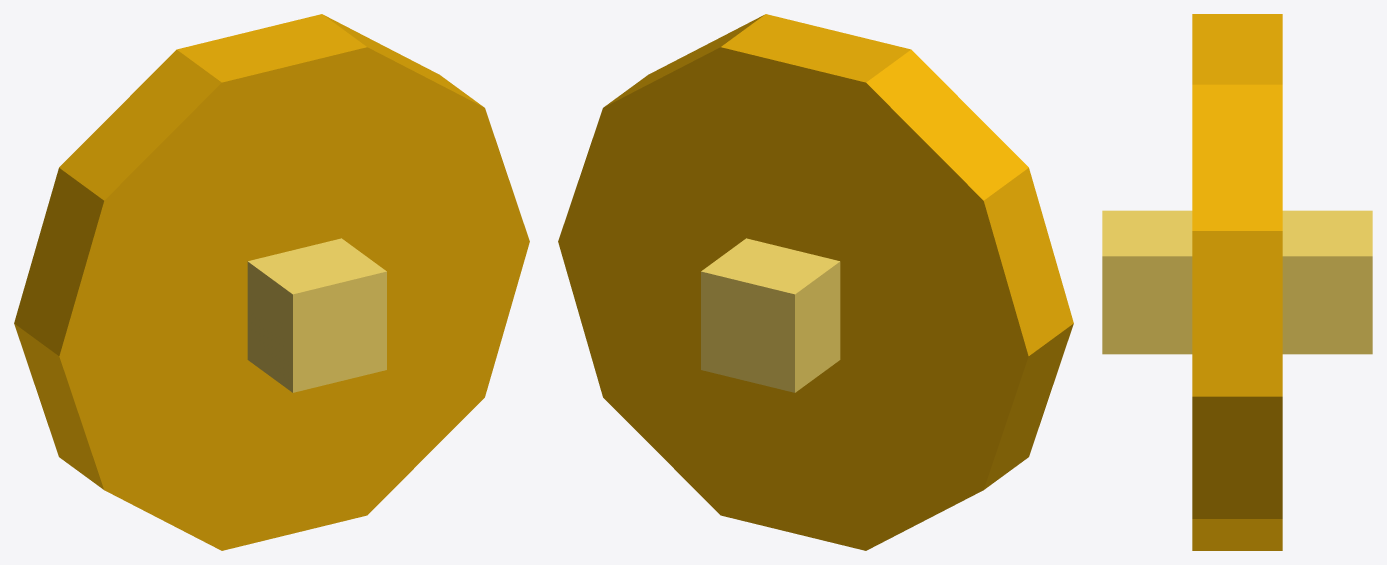
File: moeda.glb
3 views of the same model, side by side, from view 1: azimuth 30°, elevation 25°; view 2: azimuth 150°, elevation 25°; view 3: azimuth 270°, elevation 25° (orthographic).
Parts seen in each view (by area): view 1: moeda; view 2: moeda; view 3: moeda.
Part boxes in pixels (<box>): moeda: <box>14,14,529,550</box>; moeda: <box>558,14,1073,550</box>; moeda: <box>1102,14,1372,550</box>.
Bounding box in the file's own units: 0.6 × 0.5706 × 0.3.
